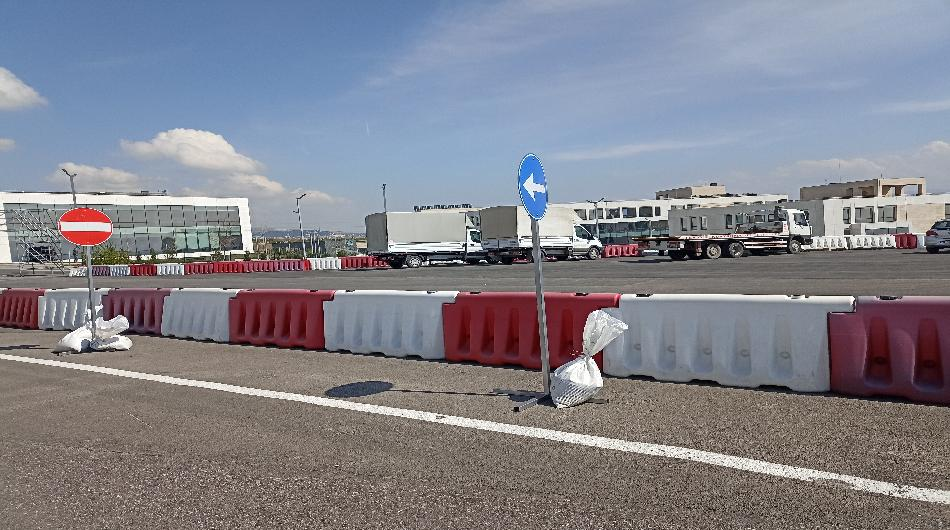girilmez: (57, 204, 114, 245)
sola_mecburi_1: (515, 153, 550, 229)
